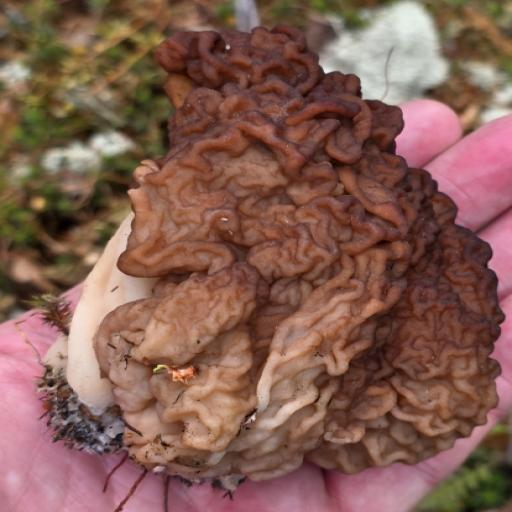mushroom: (82, 20, 507, 476)
